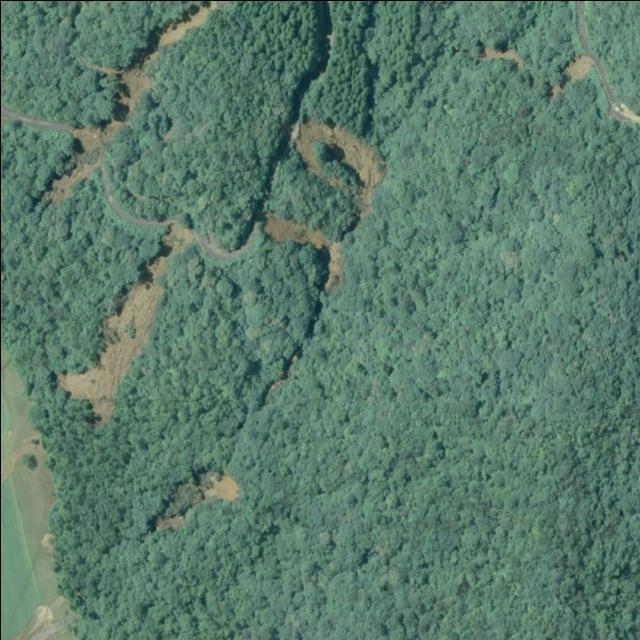landslide: (56, 255, 167, 422), (290, 117, 384, 215), (262, 212, 342, 289), (39, 122, 111, 202), (40, 152, 99, 202), (165, 225, 188, 251)
